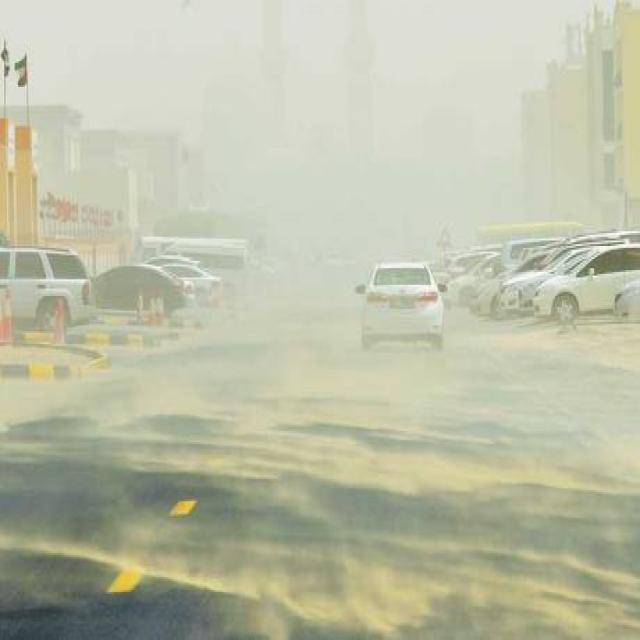car: (2, 240, 101, 333), (359, 259, 445, 346), (138, 226, 245, 294), (534, 250, 639, 318), (89, 265, 185, 317), (519, 246, 584, 316), (472, 256, 532, 315), (446, 251, 496, 309), (163, 257, 225, 300), (504, 244, 537, 315)
